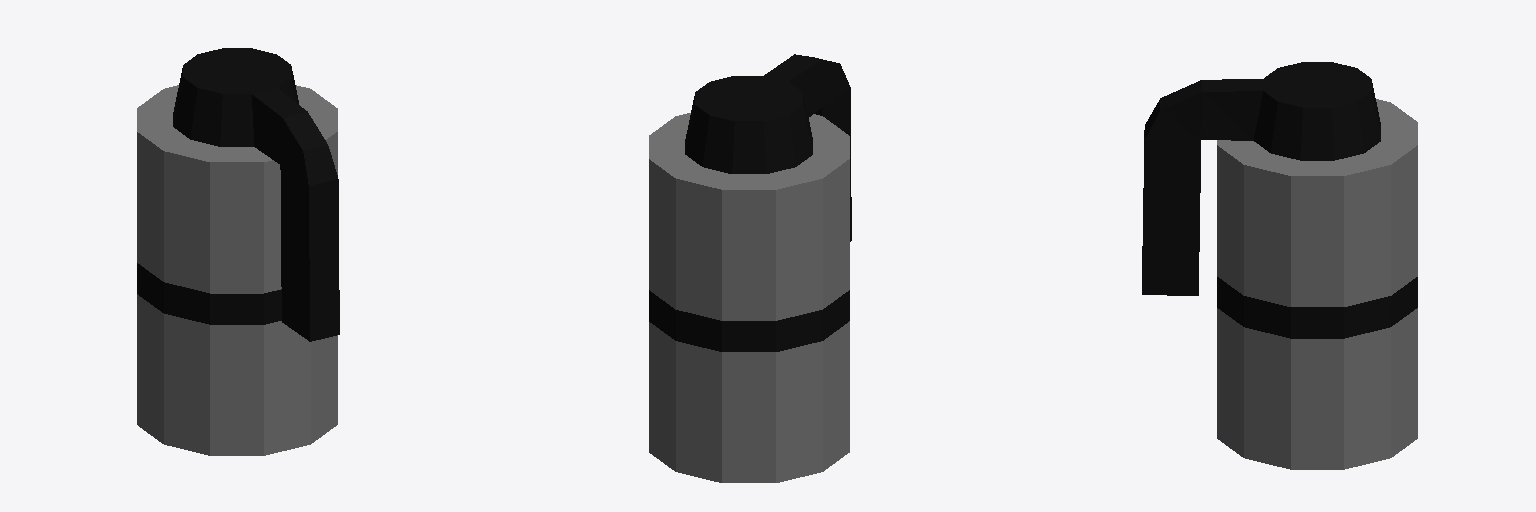
Rendered from incendiary.obj.
3 views of the same model, side by side, from view 1: azimuth 30°, elevation 25°; view 2: azimuth 150°, elevation 25°; view 3: azimuth 270°, elevation 25° (orthographic).
Visible parts, largest first — view 1: Cylinder; view 2: Cylinder; view 3: Cylinder.
Part boxes in pixels (x1,y1,x2,y2): Cylinder: (137, 48, 339, 455); Cylinder: (649, 54, 851, 482); Cylinder: (1142, 62, 1417, 469).
Bounding box in the file's own units: 0.1486 × 0.2789 × 0.2039.